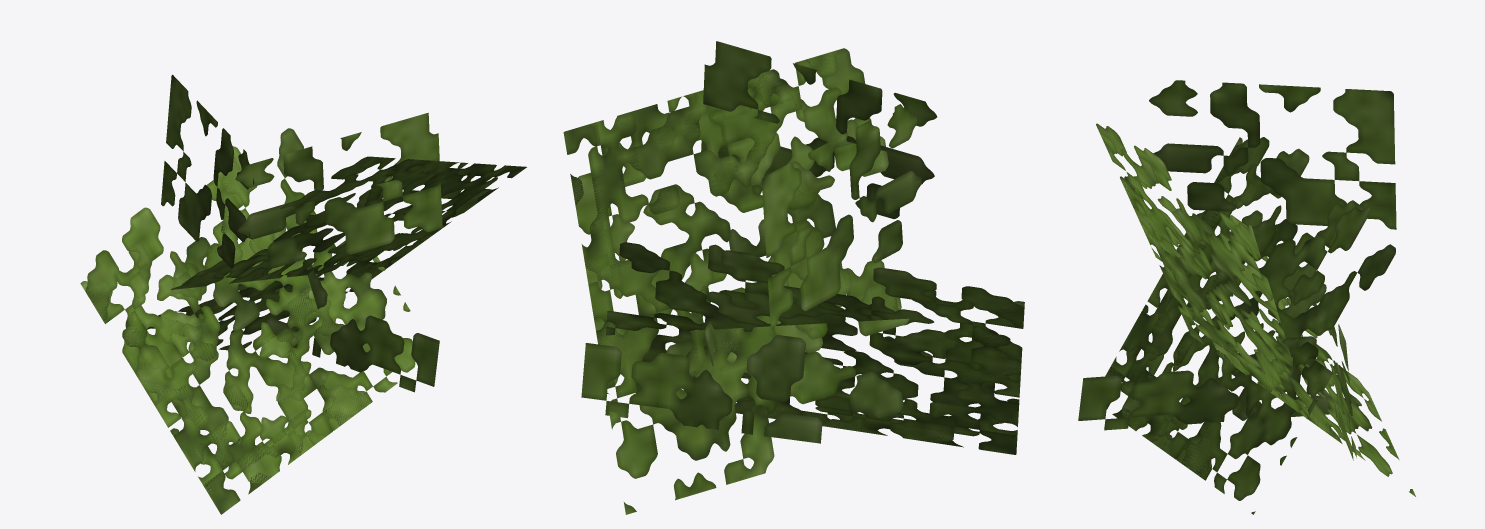
File: linden_leaves_slab.obj
The picture shows the model from 3 angles, left to right: view 1: azimuth 30°, elevation 25°; view 2: azimuth 150°, elevation 25°; view 3: azimuth 270°, elevation 25°; orthographic projection. The views are drawn at different scales.
Parts seen in each view (by area): view 1: cube; view 2: cube; view 3: cube.
Boxes of the visible parts, x1,y1,x2,y2 form: cube: (80,74,526,514); cube: (563,41,1024,514); cube: (1078,80,1415,514).
Size of the model in its own units: 2.99 by 2.22 by 2.1.
